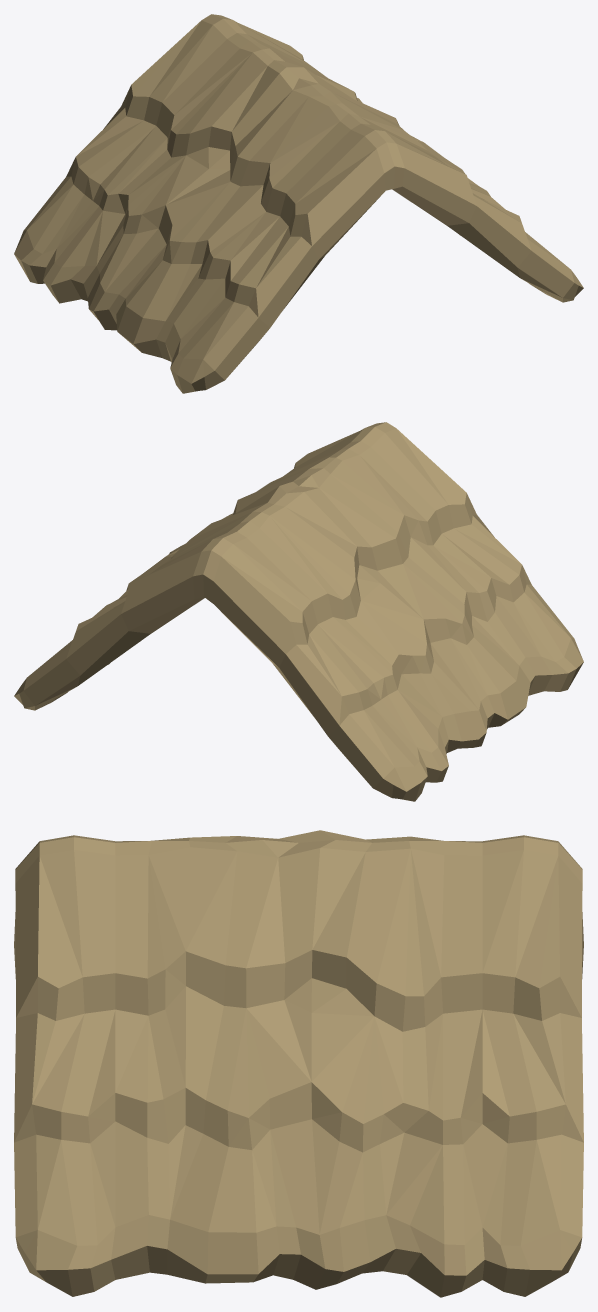
Rendered from rpgpp_ag_tower_01_platform_02_roof_01b.fbx.
The picture shows the model from 3 angles, top to bottom: view 1: azimuth 30°, elevation 25°; view 2: azimuth 150°, elevation 25°; view 3: azimuth 270°, elevation 25°; orthographic projection. The views are drawn at different scales.
Visible parts, largest first — view 1: rpgpp_ag_tower_01_platform_02_roof_01b; view 2: rpgpp_ag_tower_01_platform_02_roof_01b; view 3: rpgpp_ag_tower_01_platform_02_roof_01b.
Boxes of the visible parts, bbox=[...] form: rpgpp_ag_tower_01_platform_02_roof_01b: bbox=[14, 14, 583, 393]; rpgpp_ag_tower_01_platform_02_roof_01b: bbox=[14, 422, 583, 801]; rpgpp_ag_tower_01_platform_02_roof_01b: bbox=[14, 830, 583, 1297].
Bounding box in the file's own units: 6.31 × 3.28 × 5.26.
